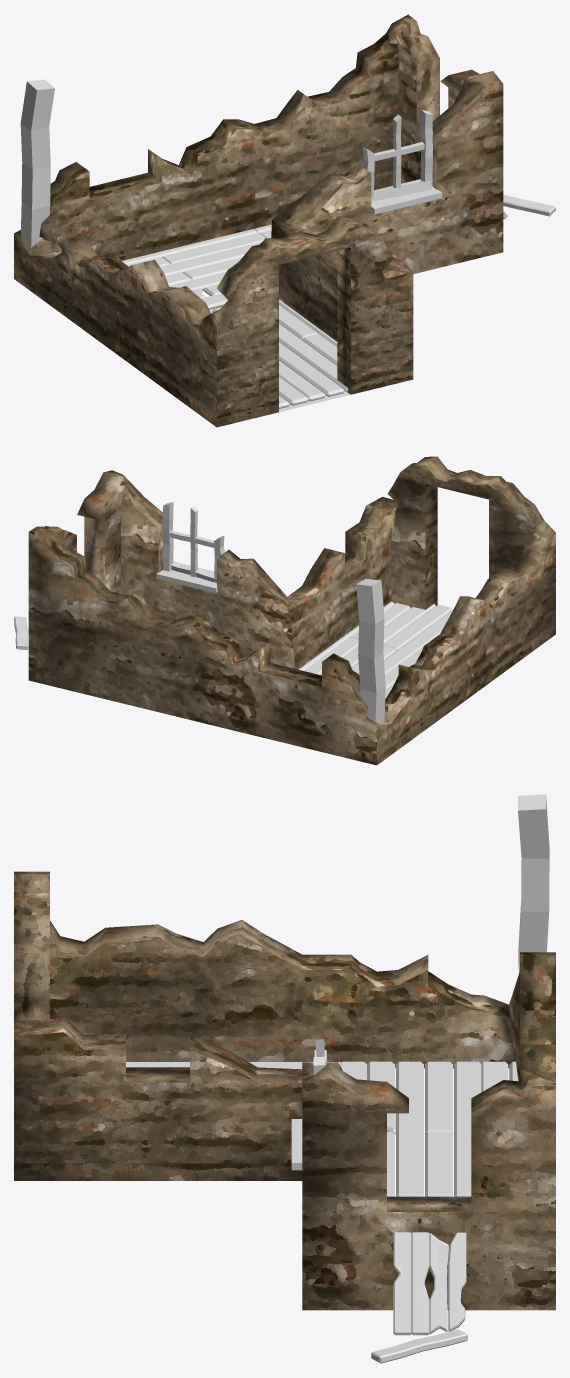
Rendered from casitaAbandonada01.fbx.
3 views of the same model, one above another, from view 1: azimuth 30°, elevation 25°; view 2: azimuth 150°, elevation 25°; view 3: azimuth 270°, elevation 25° (orthographic). The views are drawn at different scales.
Visible parts, largest first — view 1: ruina01, Cube.009, Cube.001, Cube.005, Cube.012, Cube.019; view 2: ruina01, Cube.009, Cube.001, Cube.012, Cube.019; view 3: ruina01, Cube.005, Cube.018, Cube.001, Cube.019, Cube.012, Cube.009.
Boxes of the visible parts, <box> form: ruina01: <box>14,14,503,427</box>; Cube.009: <box>209,299,348,408</box>; Cube.001: <box>20,79,54,247</box>; Cube.005: <box>121,229,265,309</box>; Cube.012: <box>362,110,442,214</box>; Cube.019: <box>503,194,555,216</box>; ruina01: <box>28,456,555,765</box>; Cube.009: <box>298,601,452,694</box>; Cube.001: <box>356,578,385,722</box>; Cube.012: <box>156,502,224,592</box>; Cube.019: <box>14,616,28,649</box>; ruina01: <box>14,871,555,1310</box>; Cube.005: <box>341,1061,518,1196</box>; Cube.018: <box>393,1232,466,1335</box>; Cube.001: <box>518,794,549,972</box>; Cube.019: <box>371,1329,467,1363</box>; Cube.012: <box>291,1039,326,1170</box>; Cube.009: <box>126,1062,341,1069</box>.
Bounding box in the file's own units: 5.1 × 2.04 × 3.76.
